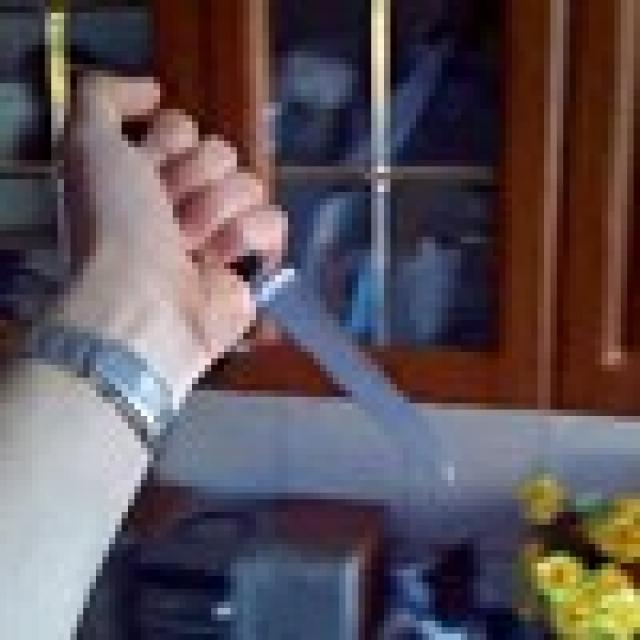knife: (128, 109, 454, 486)
